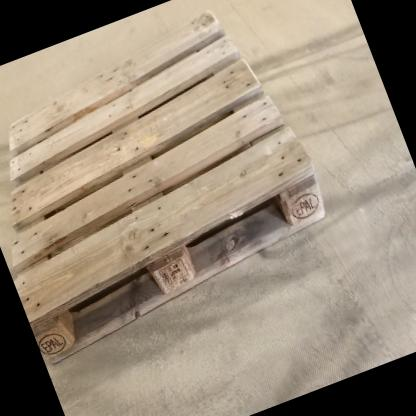BoxFace: (4, 1, 331, 371)
